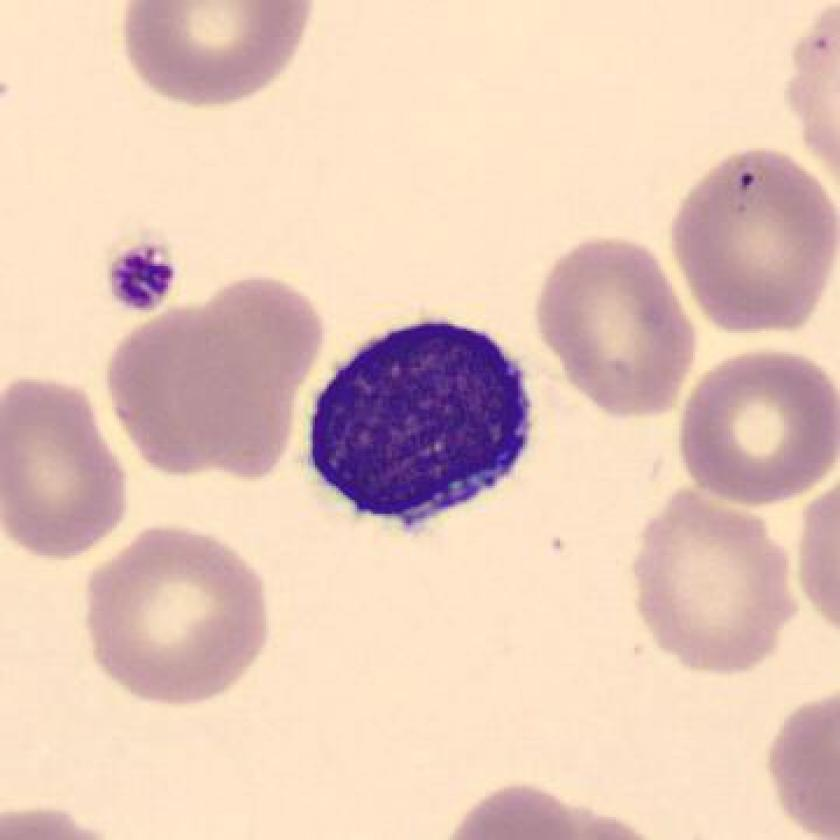lymphocyte: (286, 298, 549, 550)
